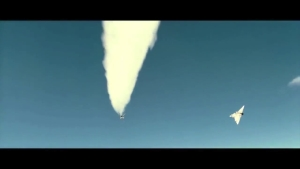flight: (229, 104, 246, 126)
